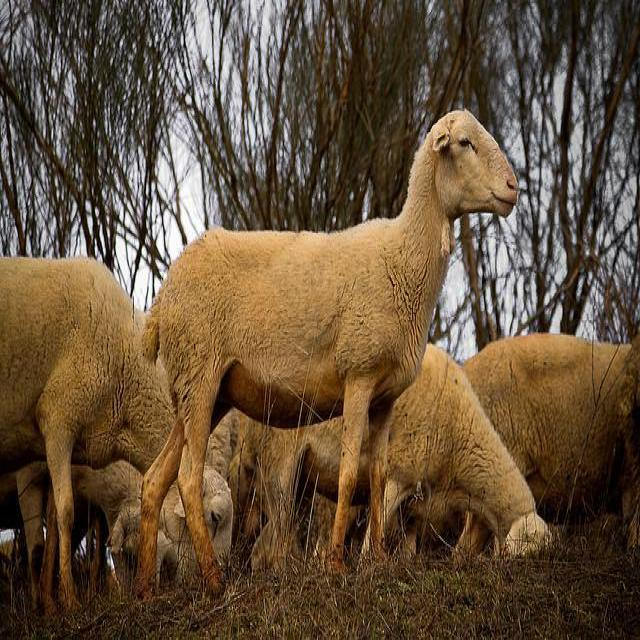Sheep: (131, 110, 518, 606), (243, 341, 552, 578), (1, 254, 172, 607), (459, 333, 639, 499), (163, 470, 234, 583), (73, 464, 146, 560)
